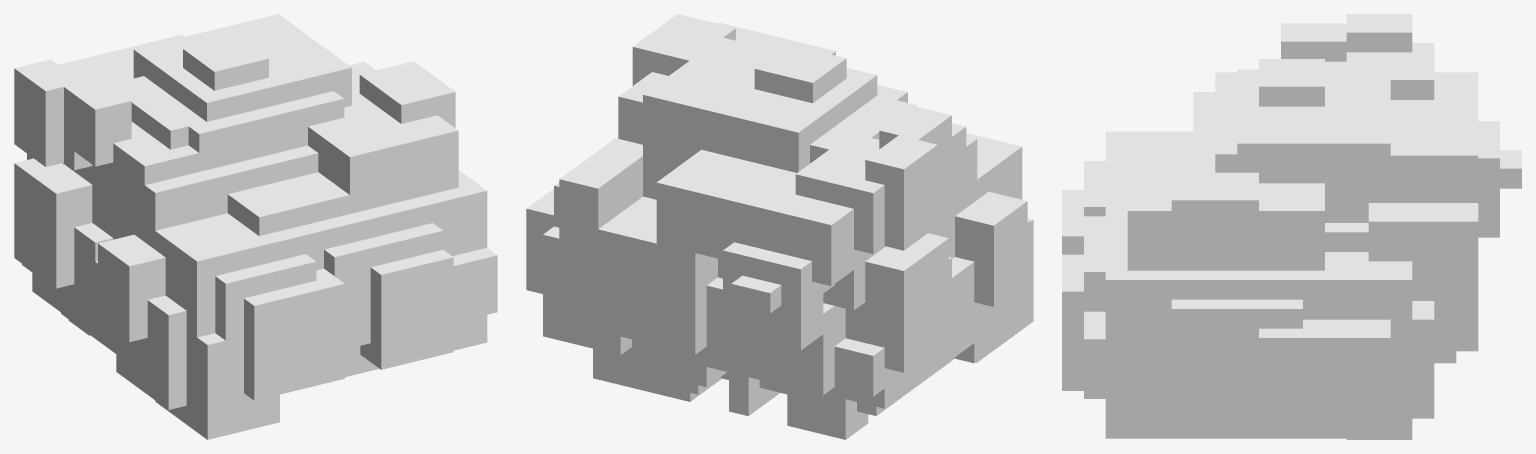
Rendered from cloud_02.obj.
3 views of the same model, side by side, from view 1: azimuth 30°, elevation 25°; view 2: azimuth 150°, elevation 25°; view 3: azimuth 270°, elevation 25° (orthographic). The views are drawn at different scales.
Bounding box in the file's own units: 20 × 15 × 21.
Materials: 1 (1 with a texture image).
